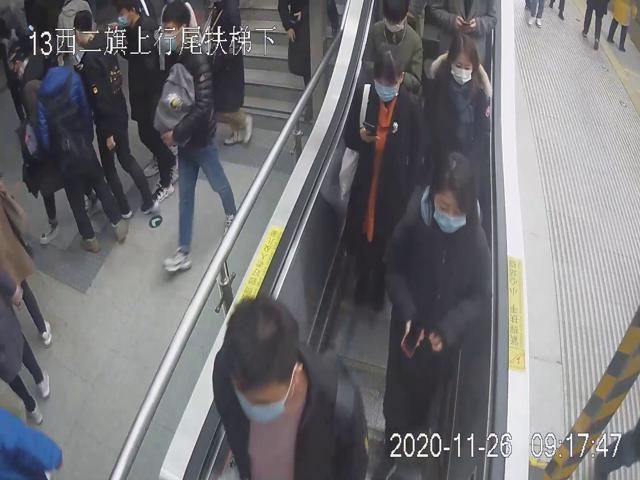person: (378, 143, 490, 479), (210, 294, 370, 480), (154, 0, 239, 277), (338, 43, 425, 313), (425, 32, 494, 172), (358, 0, 425, 91)
